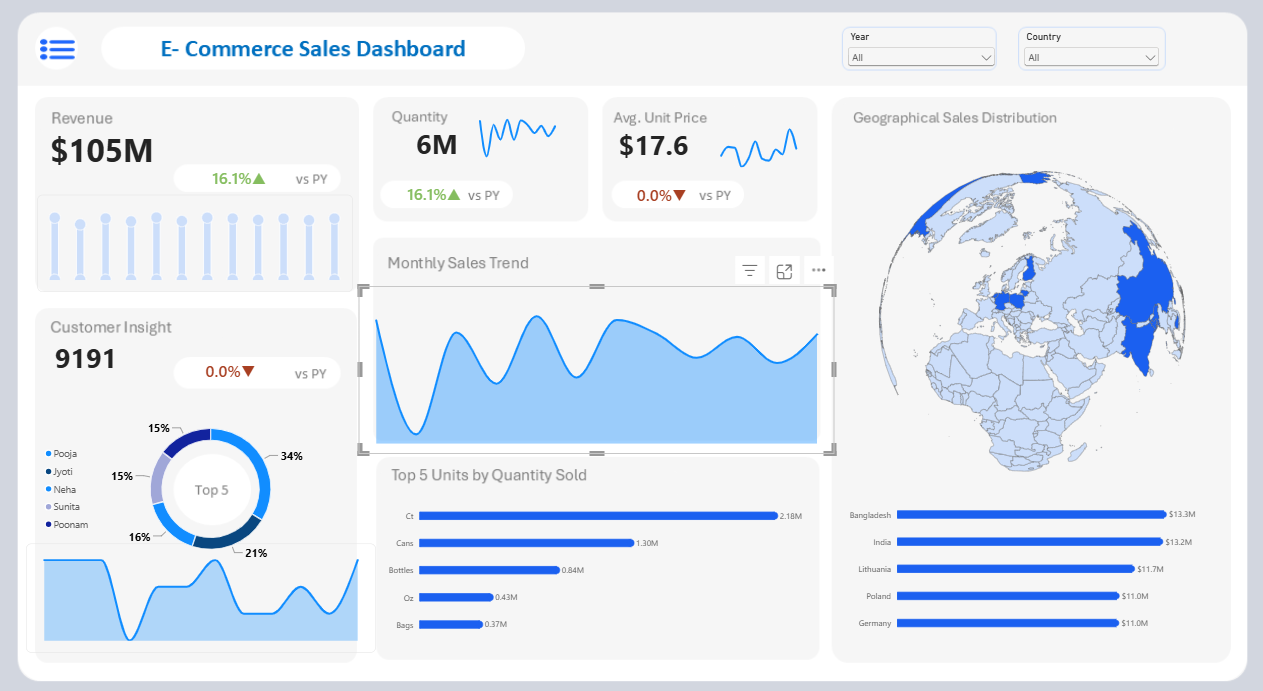

What the dashboard file says about the page in this screenshot:
{"tool":"powerbi","page":{"name":"E-Commerce Sales Dashboard","canvas":[1920,1080],"ordinal":0},"visuals":[{"type":"shapeMap","fields":{"Category":["item_dim.man_country"]},"box":[1271.8,241.1,552.2,520.9],"z":0},{"type":"card","fields":{"Values":["DAX Measure.TOTAL SALES"]},"box":[82.8,195.1,189.6,104.9],"z":1000},{"type":"card","fields":{"Values":["DAX Measure.TOTAL QTY"]},"box":[581,186.8,179.3,106.5],"z":2000},{"type":"card","fields":{"Values":["DAX Measure.AVG UNIT PRICE"]},"box":[918.4,187.7,143.6,104.9],"z":3000},{"type":"card","fields":{"Values":["DAX Measure.CUSTOMER"]},"box":[82.8,502.5,143.6,104.9],"z":4000},{"type":"card","fields":{"Values":["DAX Measure.% YoY Sales"]},"box":[285.3,259.5,189.6,62.6],"z":5000},{"type":"card","fields":{"Values":["DAX Measure.% YoY Customer"]},"box":[272.4,544.8,189.6,62.6],"z":6000},{"type":"card","fields":{"Values":["DAX Measure.% YoY QTY"]},"box":[572.4,283.4,189.6,62.6],"z":7000},{"type":"card","fields":{"Values":["DAX Measure.% YoY Price"]},"box":[907.4,285.3,189.6,62.6],"z":8000},{"type":"slicer","fields":{"Values":["time_dim.year"]},"box":[1272.2,72.9,226,85.9],"z":9000},{"type":"columnChart","fields":{"Category":["time_dim.Date.Variation.Date Hierarchy.Month"],"Y":["DAX Measure.TOTAL SALES"]},"box":[82.6,314.9,464.5,142.9],"z":10000},{"type":"lineChart","fields":{"Category":["time_dim.month"],"Y":["DAX Measure.TOTAL QTY"]},"box":[708,179.3,162.5,114],"z":11000},{"type":"lineChart","fields":{"Category":["time_dim.month"],"Y":["DAX Measure.AVG UNIT PRICE"]},"box":[1062.9,177.5,162.5,114],"z":12000},{"type":"lineChart","fields":{"Category":["time_dim.month"],"Y":["DAX Measure.CUSTOMER"]},"box":[65.4,827.6,515.6,160.7],"z":13000},{"type":"donutChart","fields":{"Category":["customer_dim.name"],"Y":["DAX Measure.TOTAL SALES"]},"box":[78.2,611.9,446.6,274.7],"z":14000},{"type":"lineChart","fields":{"Category":["time_dim.month"],"Y":["DAX Measure.TOTAL SALES"]},"box":[556,448.9,701.2,247.9],"z":15000},{"type":"clusteredBarChart","fields":{"Category":["fact_table.unit"],"Y":["DAX Measure.TOTAL QTY"]},"box":[580.6,739.2,645.4,250.1],"z":16000},{"type":"clusteredBarChart","fields":{"Category":["item_dim.man_country"],"Y":["DAX Measure.TOTAL SALES"]},"box":[1257.5,738.1,548.1,249.7],"z":17000},{"type":"slicer","fields":{"Values":["item_dim.man_country"]},"box":[1531.3,73.6,208,86.5],"z":17002}]}

Visuals, with their boxes in screenshot pixels (x1, y1, x2, y2), scaled from the page's 1920x1080 canvas onto the 1263x691 screenshot:
shapeMap - item_dim.man_country: box=[837, 154, 1200, 488]
card - DAX Measure.TOTAL SALES: box=[54, 125, 179, 192]
card - DAX Measure.TOTAL QTY: box=[382, 120, 500, 188]
card - DAX Measure.AVG UNIT PRICE: box=[604, 120, 699, 187]
card - DAX Measure.CUSTOMER: box=[54, 322, 149, 389]
card - DAX Measure.% YoY Sales: box=[188, 166, 312, 206]
card - DAX Measure.% YoY Customer: box=[179, 349, 304, 389]
card - DAX Measure.% YoY QTY: box=[377, 181, 501, 221]
card - DAX Measure.% YoY Price: box=[597, 183, 722, 223]
slicer - time_dim.year: box=[837, 47, 986, 102]
columnChart - time_dim.Date.Variation.Date Hierarchy.Month x DAX Measure.TOTAL SALES: box=[54, 201, 360, 293]
lineChart - time_dim.month x DAX Measure.TOTAL QTY: box=[466, 115, 573, 188]
lineChart - time_dim.month x DAX Measure.AVG UNIT PRICE: box=[699, 114, 806, 187]
lineChart - time_dim.month x DAX Measure.CUSTOMER: box=[43, 530, 382, 632]
donutChart - customer_dim.name x DAX Measure.TOTAL SALES: box=[51, 392, 345, 567]
lineChart - time_dim.month x DAX Measure.TOTAL SALES: box=[366, 287, 827, 446]
clusteredBarChart - fact_table.unit x DAX Measure.TOTAL QTY: box=[382, 473, 806, 633]
clusteredBarChart - item_dim.man_country x DAX Measure.TOTAL SALES: box=[827, 472, 1188, 632]
slicer - item_dim.man_country: box=[1007, 47, 1144, 102]
